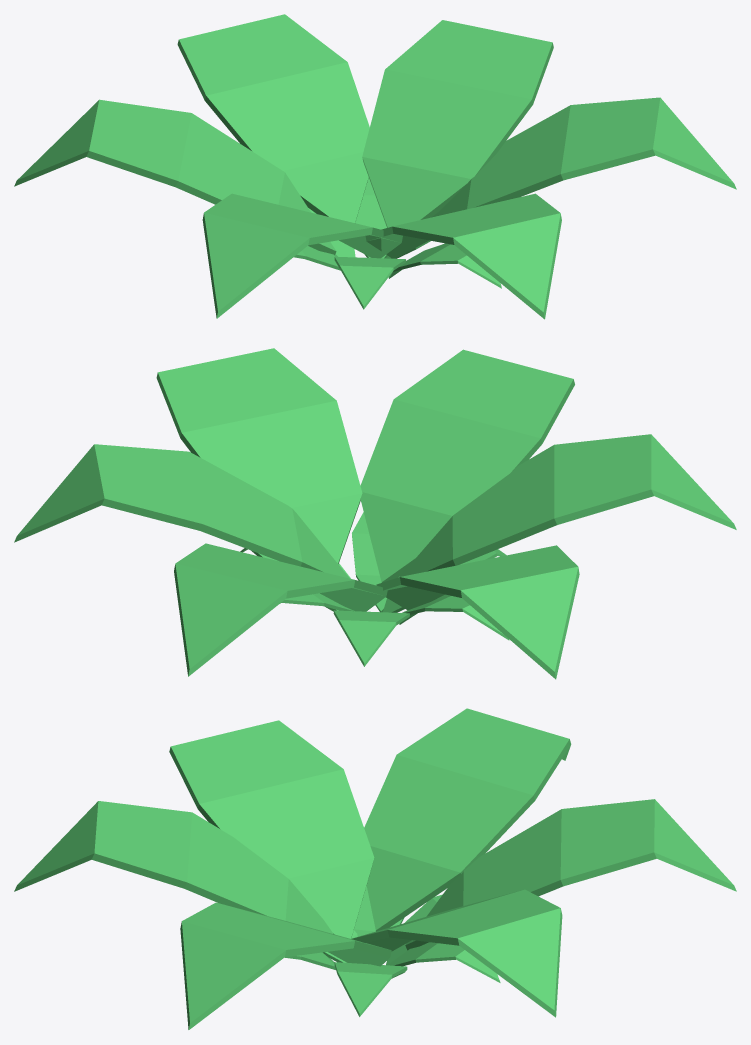
File: plant_2.fbx
3 views of the same model, one above another, from view 1: azimuth 30°, elevation 25°; view 2: azimuth 150°, elevation 25°; view 3: azimuth 270°, elevation 25° (orthographic). The views are drawn at different scales.
Visible parts, largest first — view 1: plant_2; view 2: plant_2; view 3: plant_2.
Boxes of the visible parts, x1,y1,x2,y2 form: plant_2: (14,14,736,319); plant_2: (14,348,736,679); plant_2: (14,708,736,1029).
Size of the model in its own units: 0.6497 by 0.1676 by 0.7362.
